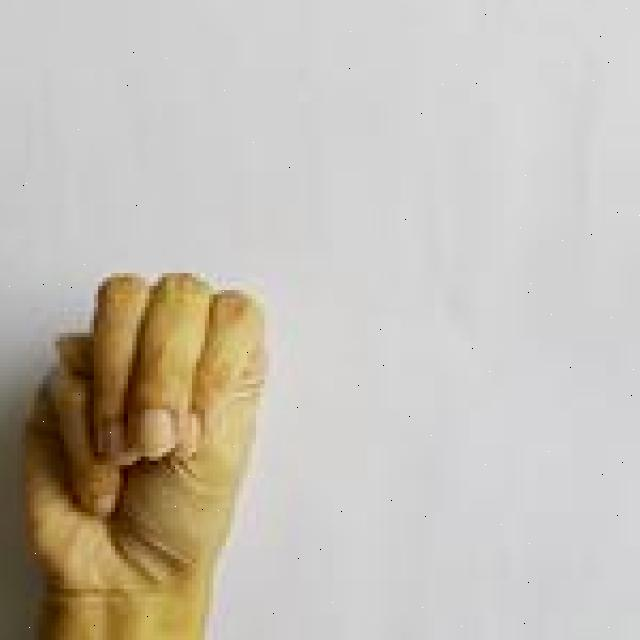M: (10, 266, 274, 640)
